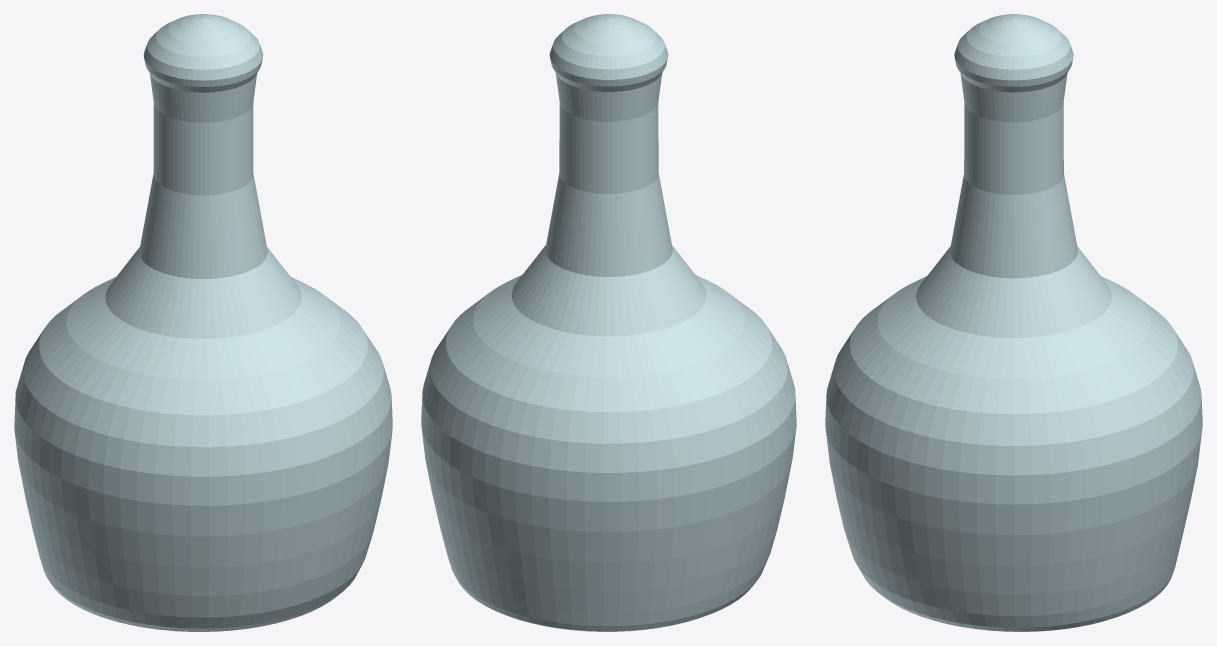
Rendered from potion_model.fbx.
3 renders of one model, left to right at view 1: azimuth 30°, elevation 25°; view 2: azimuth 150°, elevation 25°; view 3: azimuth 270°, elevation 25°, orthographic.
Visible parts, largest first — view 1: Circle; view 2: Circle; view 3: Circle.
Boxes of the visible parts, x1=… form: Circle: x1=14, y1=14, x2=392, y2=631; Circle: x1=421, y1=14, x2=796, y2=631; Circle: x1=825, y1=14, x2=1202, y2=631.
Size of the model in its own units: 259 by 418 by 259.
